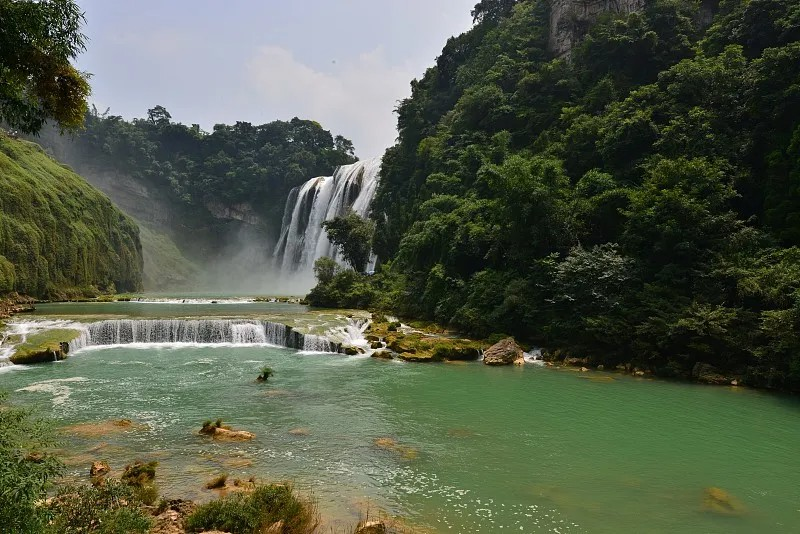Huangguoshu: (271, 161, 379, 296)
